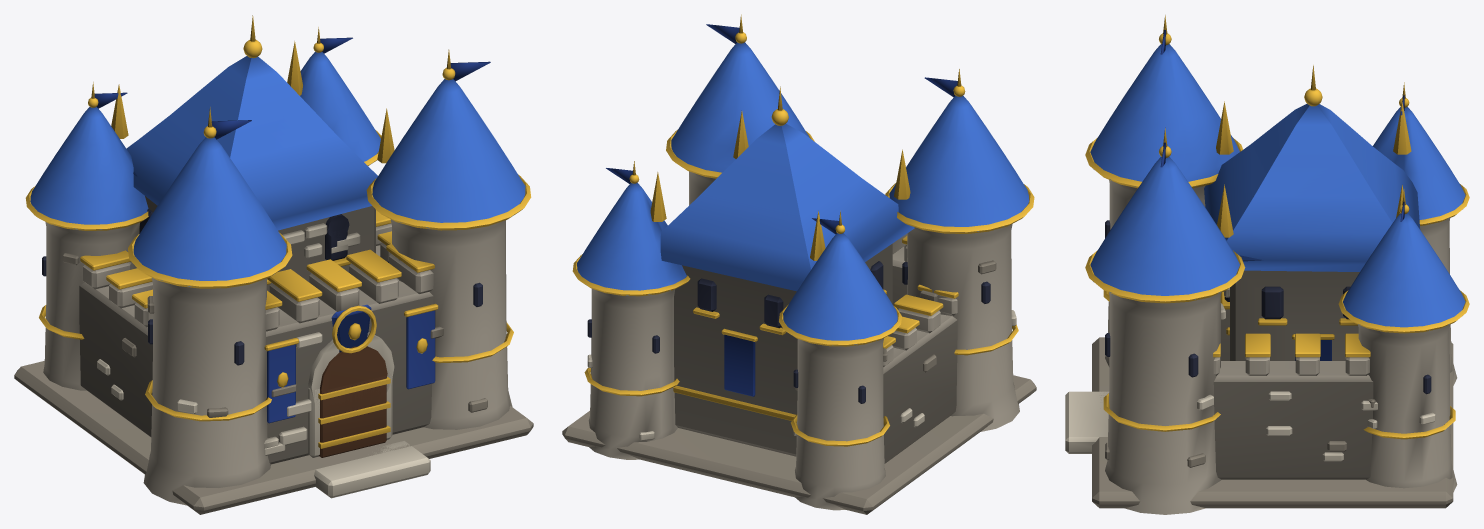
Rendered from castle_lv3.glb.
The picture shows the model from 3 angles, left to right: view 1: azimuth 30°, elevation 25°; view 2: azimuth 150°, elevation 25°; view 3: azimuth 270°, elevation 25°; orthographic projection. The views are drawn at different scales.
Parts seen in each view (by area): view 1: Castle; view 2: Castle; view 3: Castle.
Part boxes in pixels (box(x1,y1,x2,y2)): Castle: box(14, 15, 533, 514); Castle: box(562, 14, 1036, 514); Castle: box(1065, 15, 1469, 514).
Size of the model in its own units: 2.3 by 2.19 by 2.18.
Materials: 1 (1 with a texture image).
